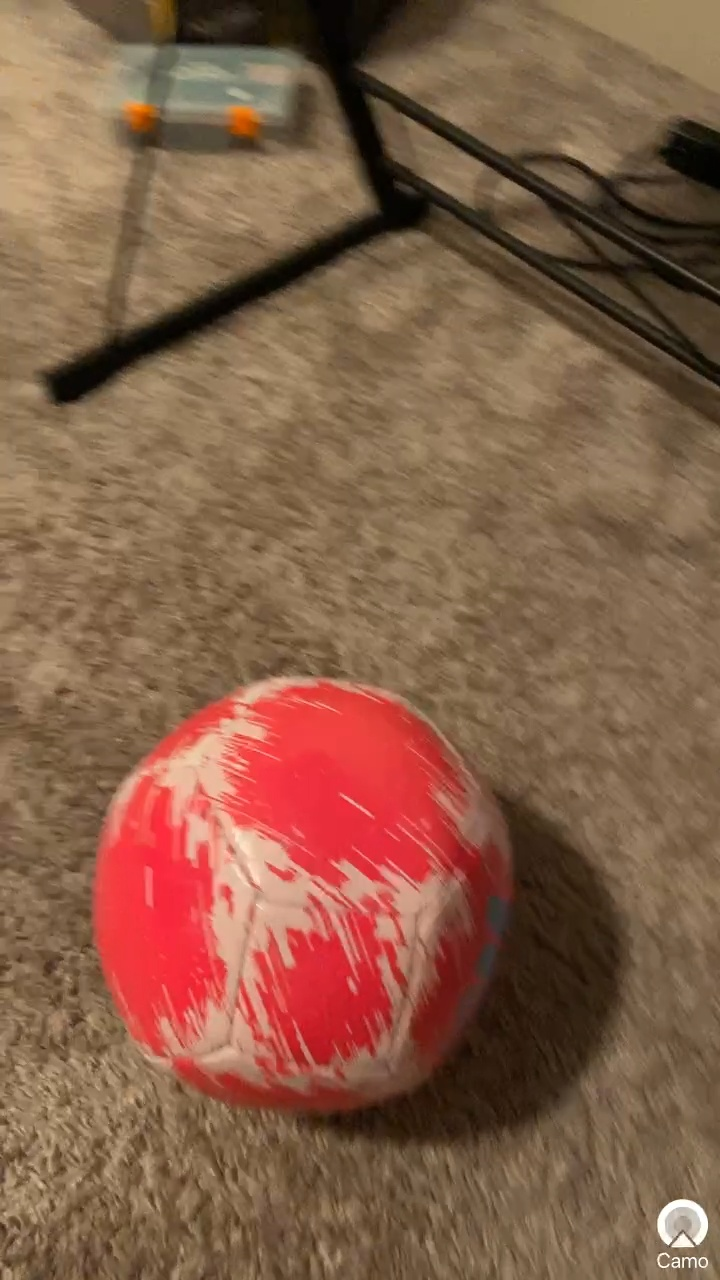Soccer_Ball: (55, 661, 531, 1123)
